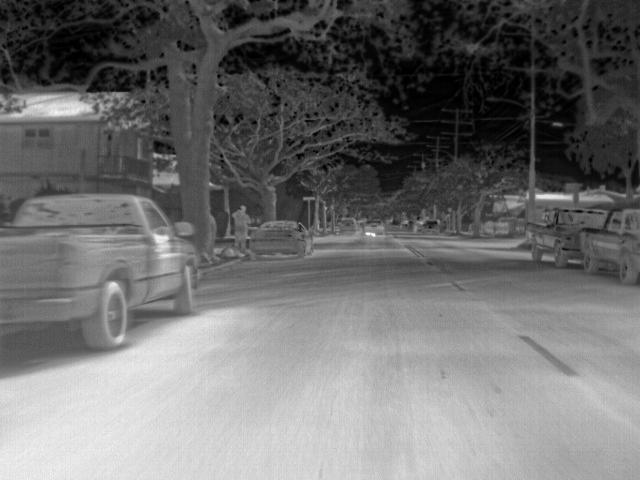car: (1, 190, 200, 354), (526, 205, 611, 267), (578, 206, 640, 282), (252, 220, 313, 260), (339, 218, 360, 234), (365, 220, 385, 236), (423, 222, 439, 234), (398, 218, 410, 228)
person: (231, 203, 251, 255)
